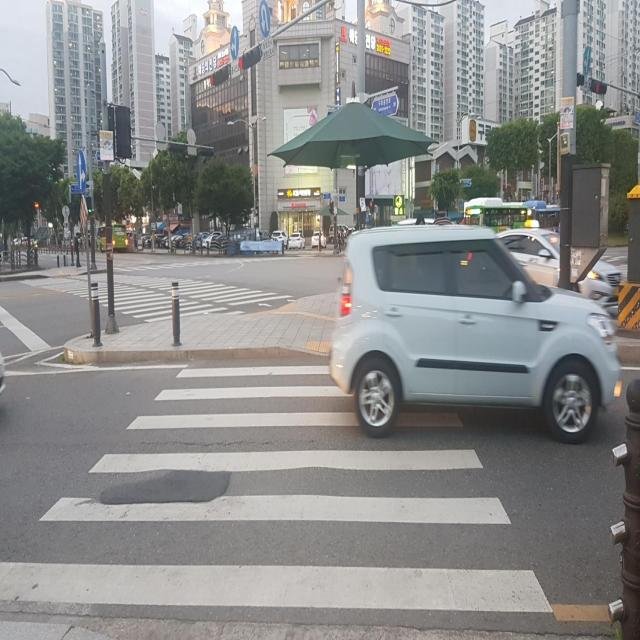횡단보도: (1, 359, 556, 638), (21, 236, 289, 325)
